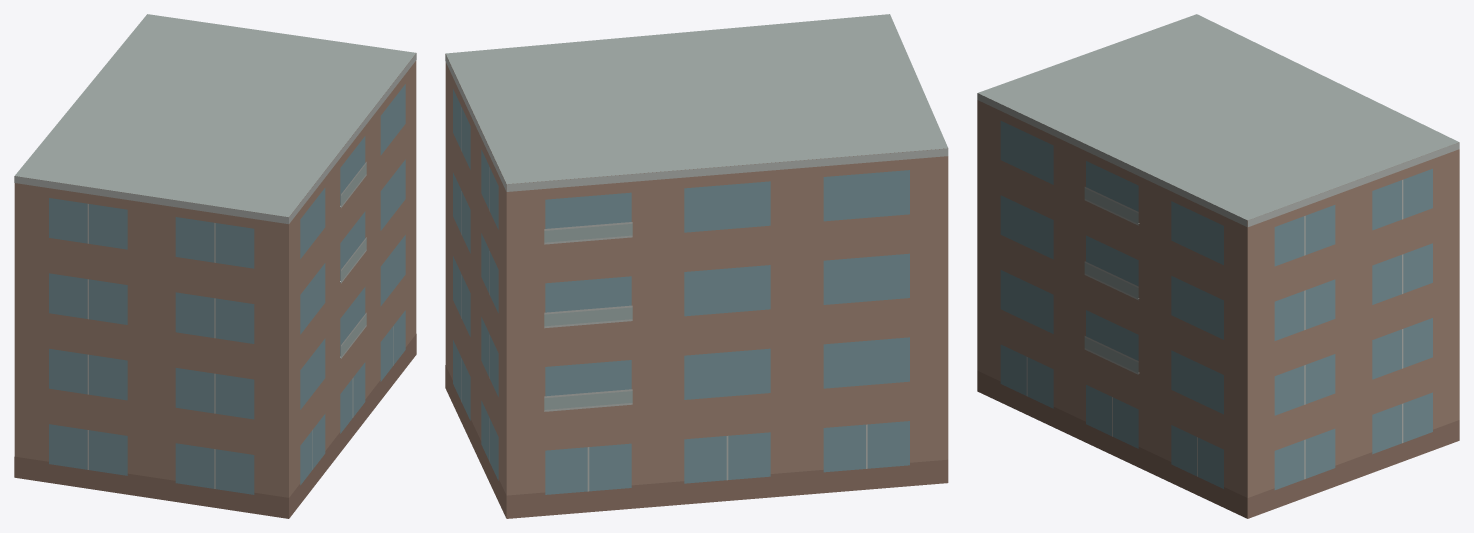
Rendered from survey-upis-32642505.glb.
3 renders of one model, left to right at view 1: azimuth 30°, elevation 25°; view 2: azimuth 150°, elevation 25°; view 3: azimuth 270°, elevation 25°, orthographic. The views are drawn at different scales.
Parts seen in each view (by area): view 1: survey-upis-32642505.tmp; view 2: survey-upis-32642505.tmp; view 3: survey-upis-32642505.tmp.
Boxes of the visible parts, x1,y1,x2,y2 form: survey-upis-32642505.tmp: (14, 14, 416, 518); survey-upis-32642505.tmp: (445, 14, 948, 518); survey-upis-32642505.tmp: (977, 14, 1459, 518).
Bounding box in the file's own units: 15.59 × 10.5 × 15.38.
